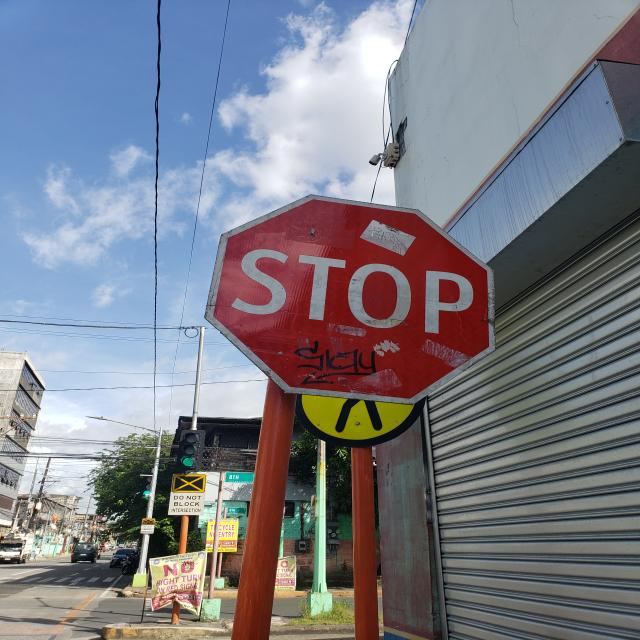stop-sign: (204, 193, 496, 405)
